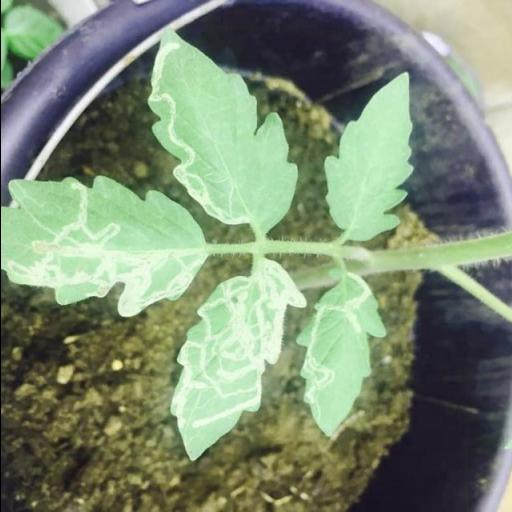Healthy: (324, 69, 415, 245)
Leaf Miner: (146, 30, 296, 226), (0, 180, 206, 322), (168, 260, 306, 463), (298, 266, 388, 442)
